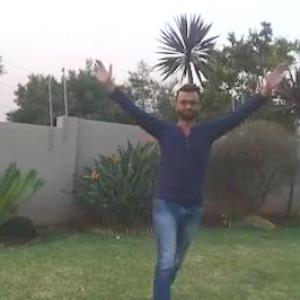takeoff: (93, 57, 286, 299)
